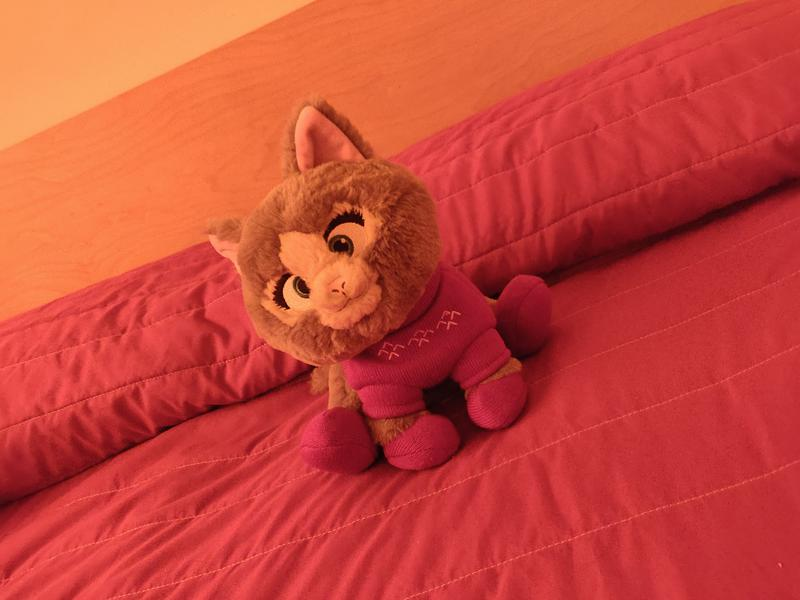kitten: (181, 76, 591, 488)
